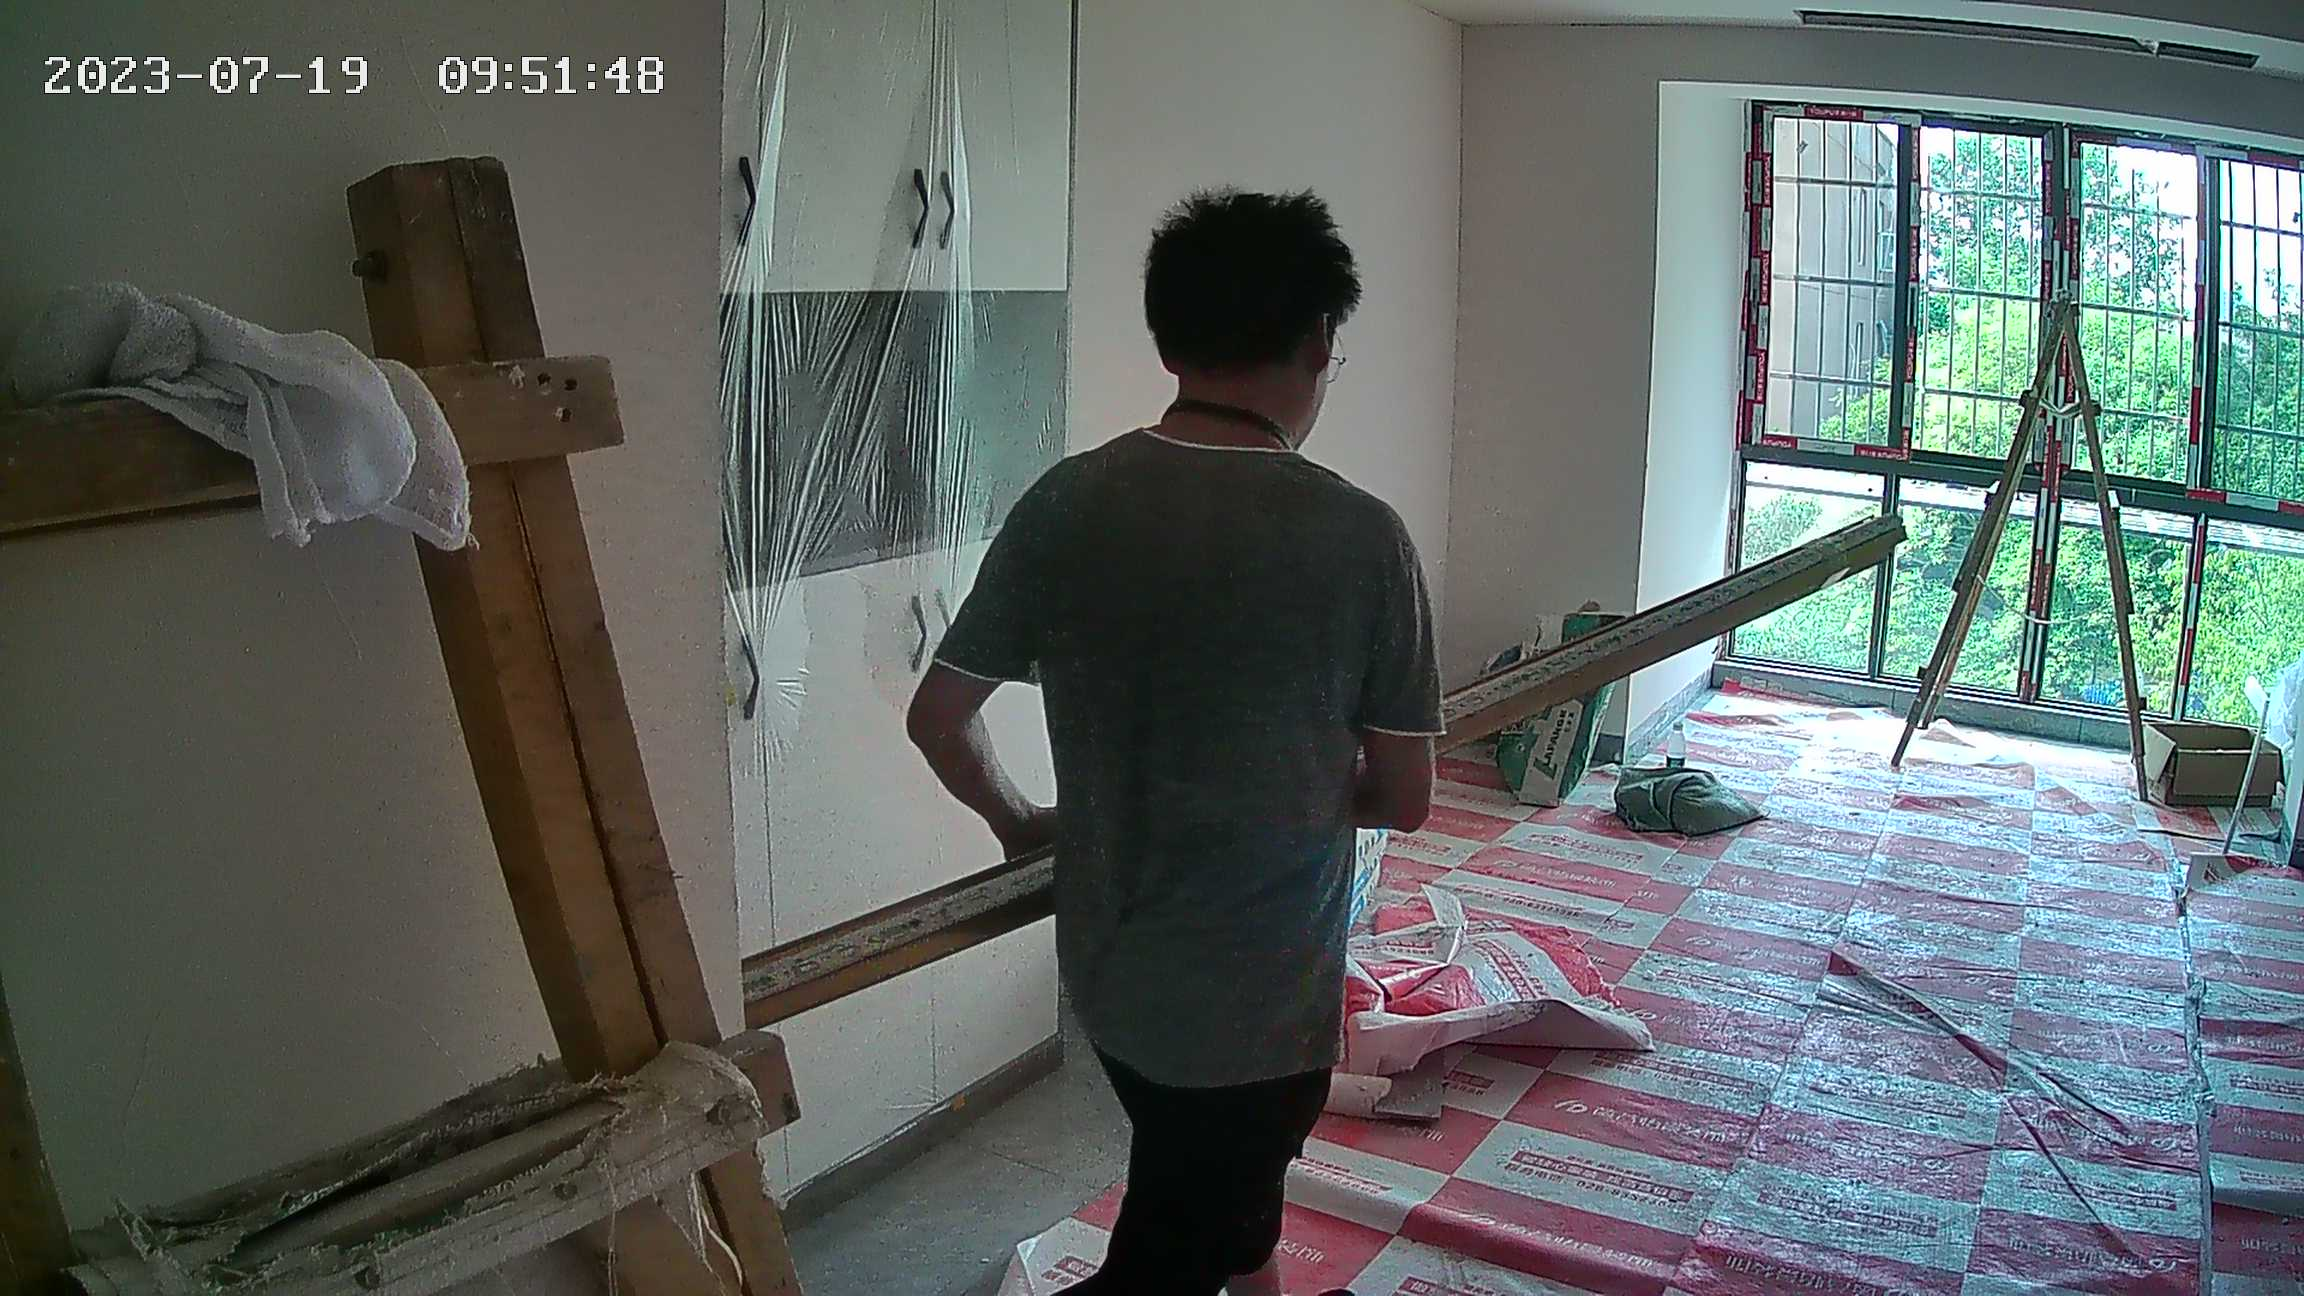people: (895, 188, 1444, 1296)
window: (1746, 103, 2304, 753)
